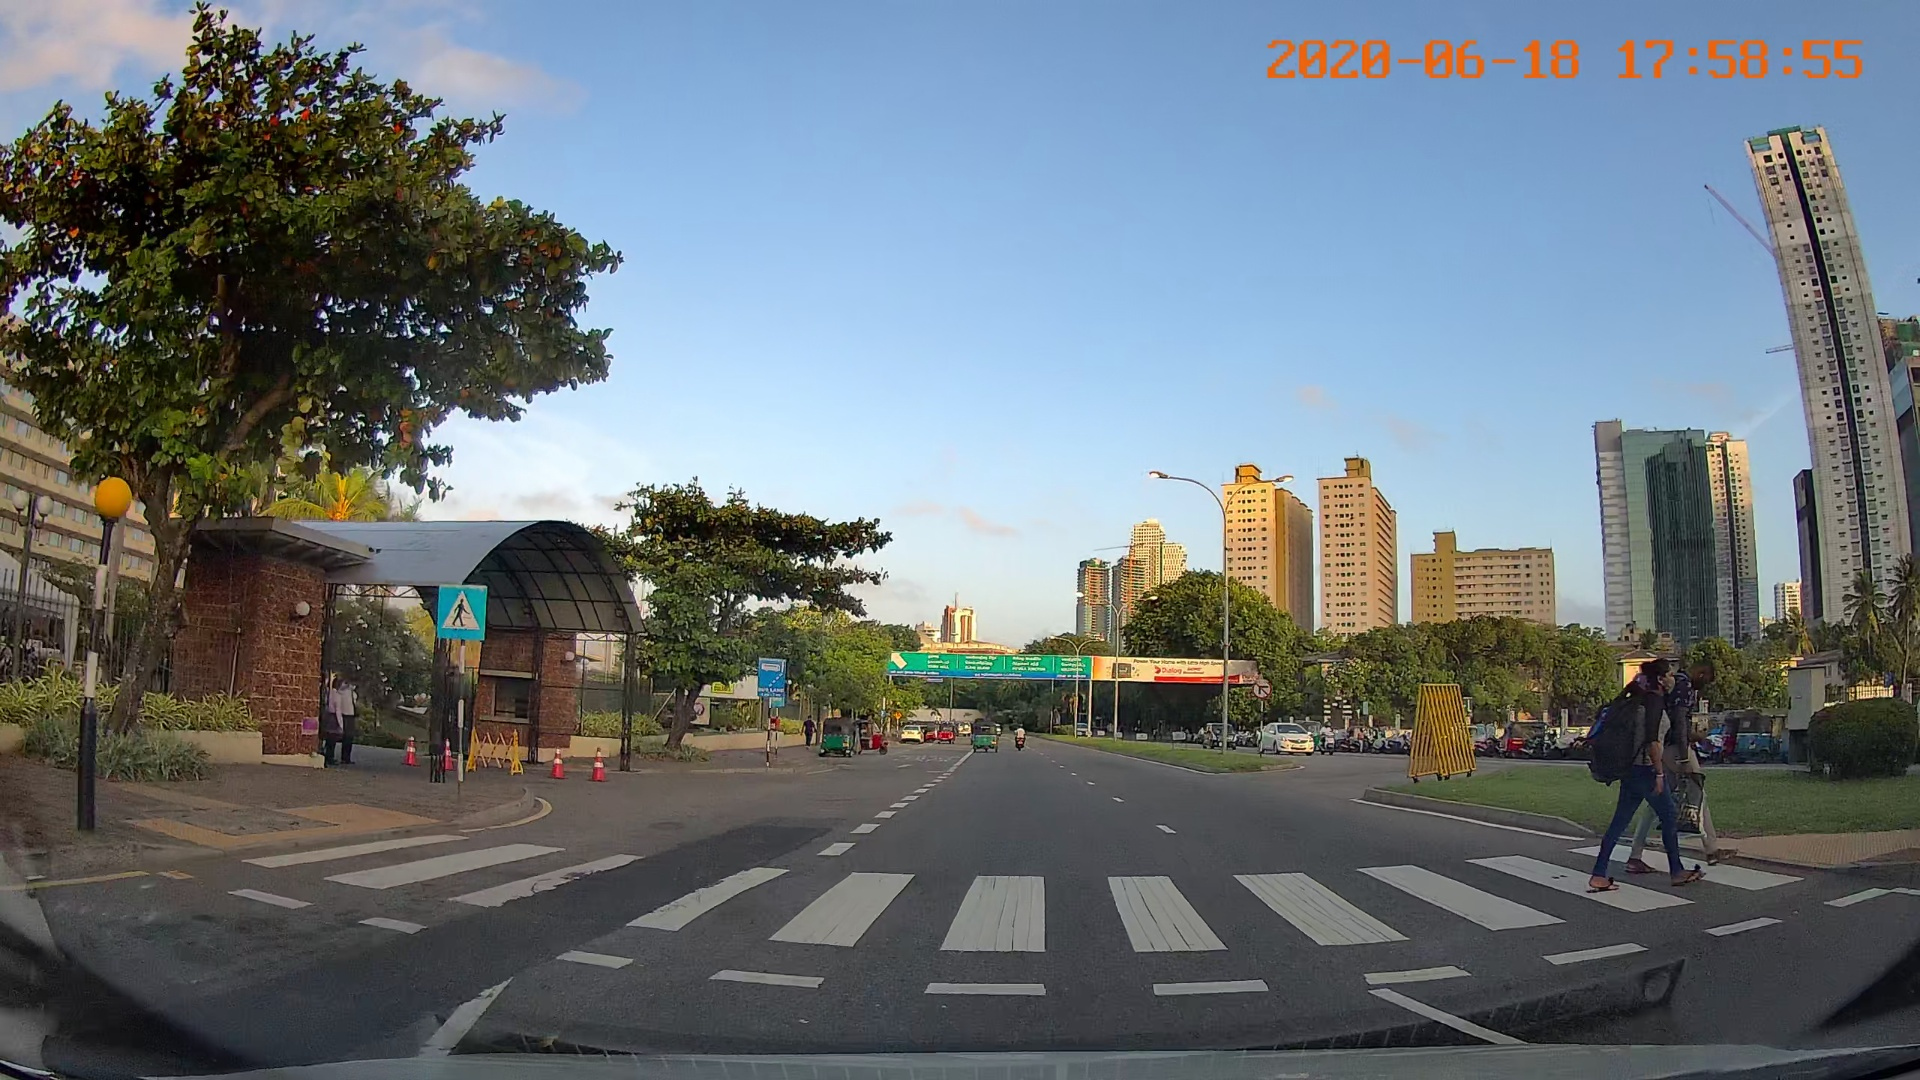crossing: (219, 790, 1785, 963)
